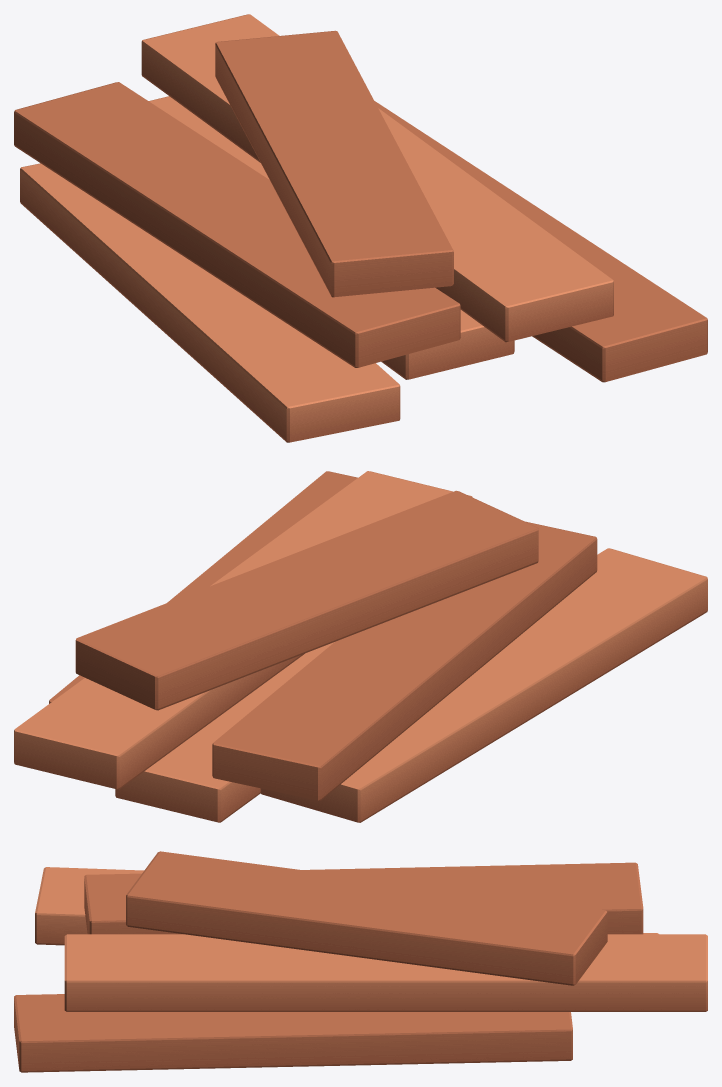
The model's file is kenney-survival__resource-planks.glb.
3 views of the same model, one above another, from view 1: azimuth 30°, elevation 25°; view 2: azimuth 150°, elevation 25°; view 3: azimuth 270°, elevation 25° (orthographic). The views are drawn at different scales.
Visible parts, largest first — view 1: resource-planks; view 2: resource-planks; view 3: resource-planks.
Boxes of the visible parts, left/top/right/bottom form: resource-planks: left=14, top=14, right=707, bottom=442; resource-planks: left=14, top=471, right=707, bottom=822; resource-planks: left=14, top=851, right=707, bottom=1072.
Bounding box in the file's own units: 0.3727 × 0.0936 × 0.6259.
Materials: 1 (1 with a texture image).
